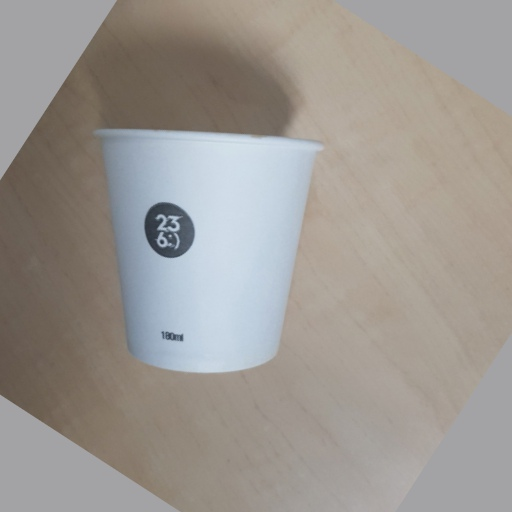Paper_1: (94, 123, 328, 375)
